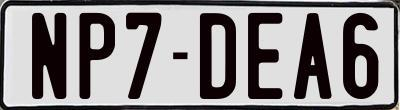6: (340, 10, 380, 101)
7: (124, 12, 163, 98)
A: (291, 10, 330, 99)
D: (199, 13, 239, 99)
E: (247, 13, 282, 99)
N: (29, 12, 64, 102)
P: (76, 10, 118, 98)
